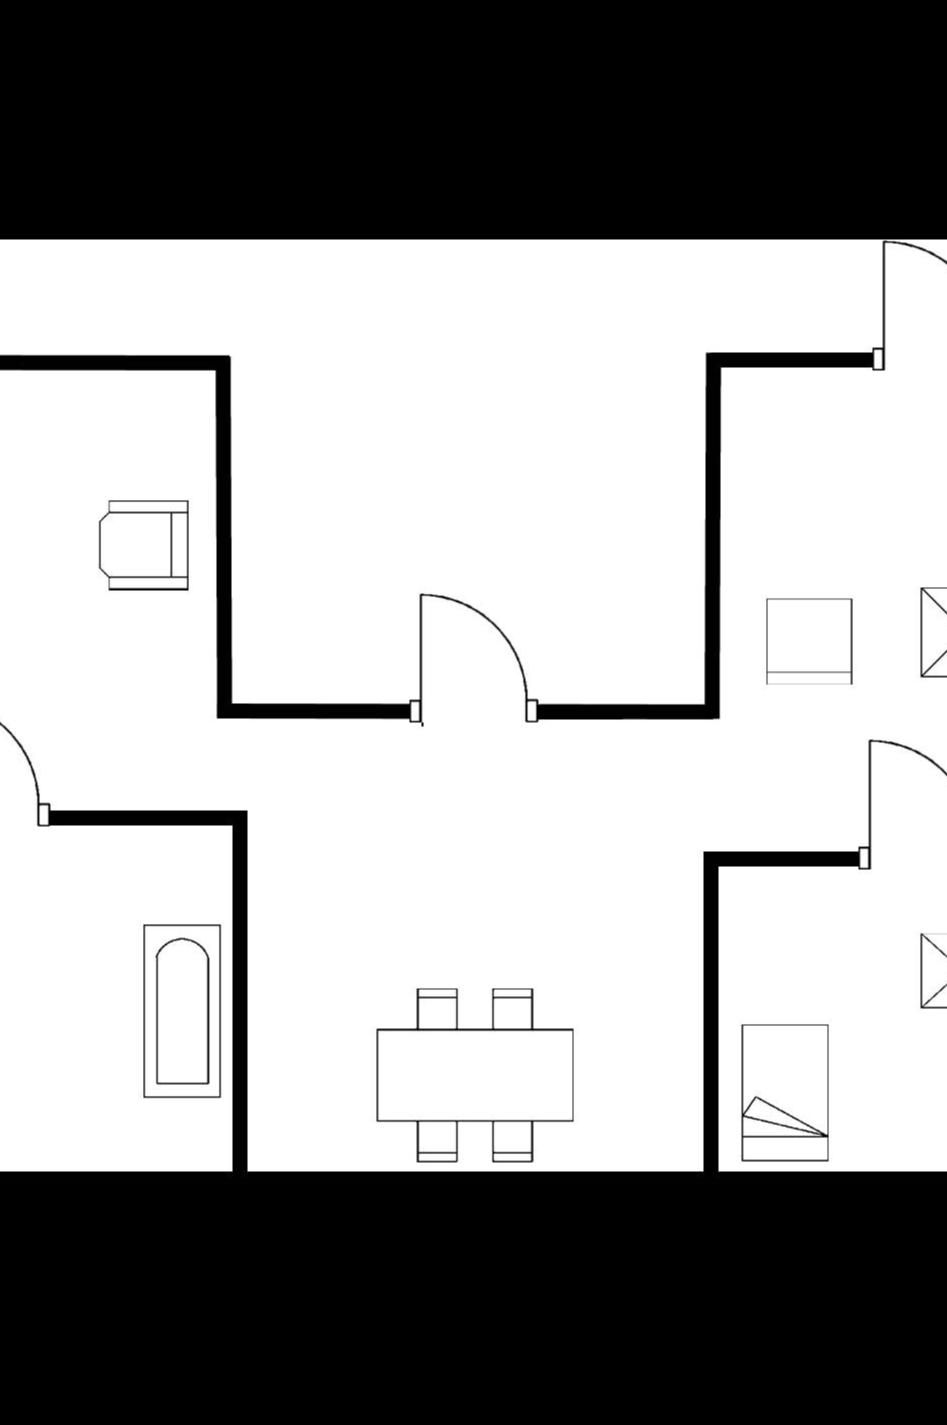bed: (734, 1016, 833, 1167)
dining_table: (365, 982, 579, 1169)
tub: (131, 919, 229, 1106)
